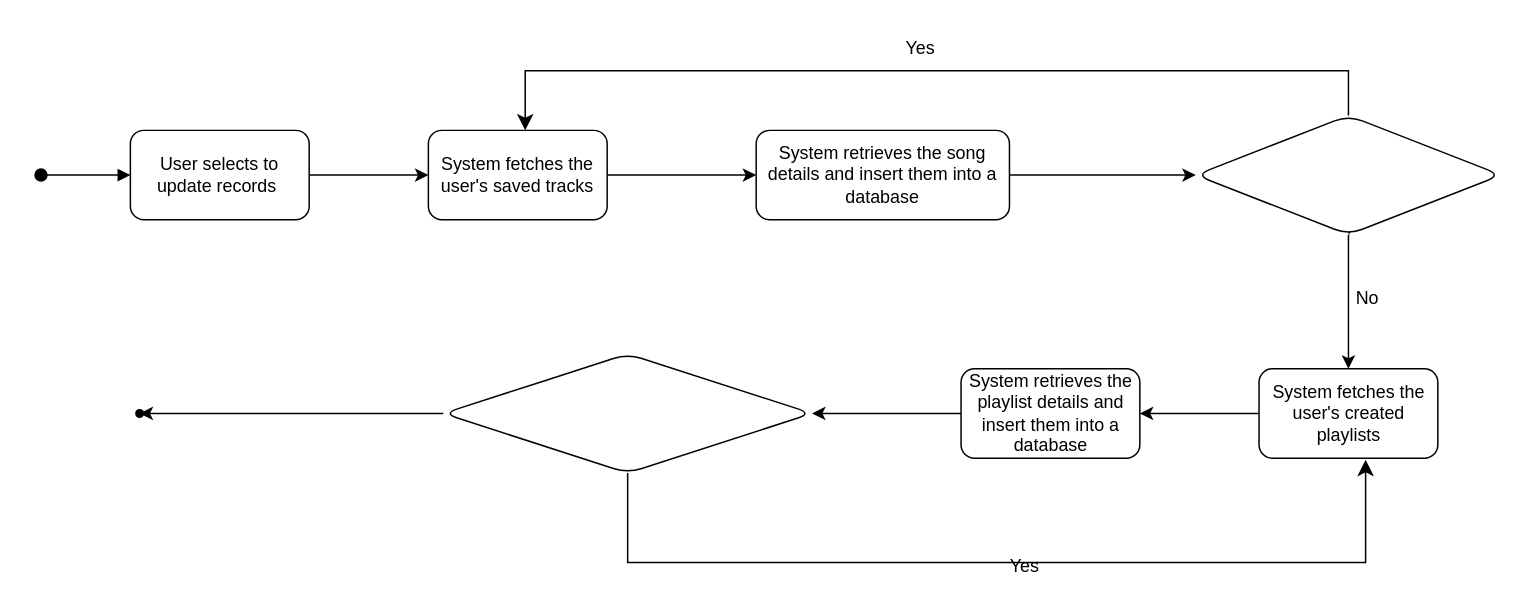
Image size: 1527x614. Some labels were removed from this diagram. Each missing label, with the box of its shape:
System checks if there are more playlists remaining to be fetched: (442, 352, 812, 473)
System checks if there are more tracks remaining to be fetched: (1194, 114, 1501, 235)
